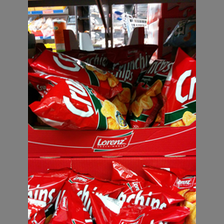chips: (28, 72, 134, 133), (131, 59, 170, 125)
